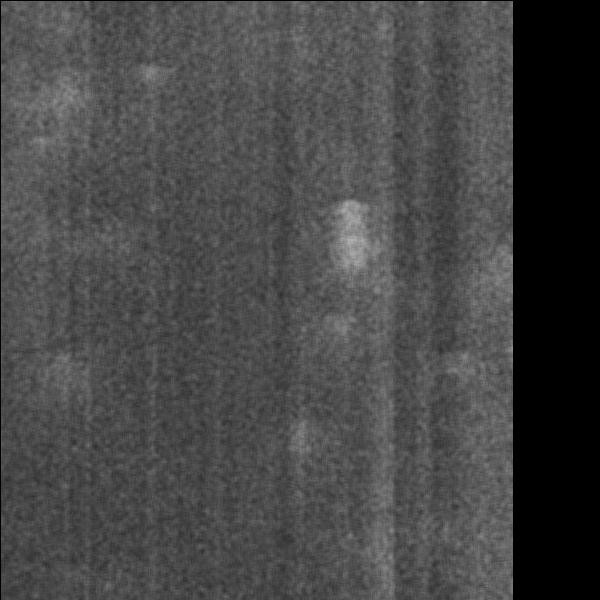spark: (332, 183, 377, 354), (291, 417, 319, 487)
